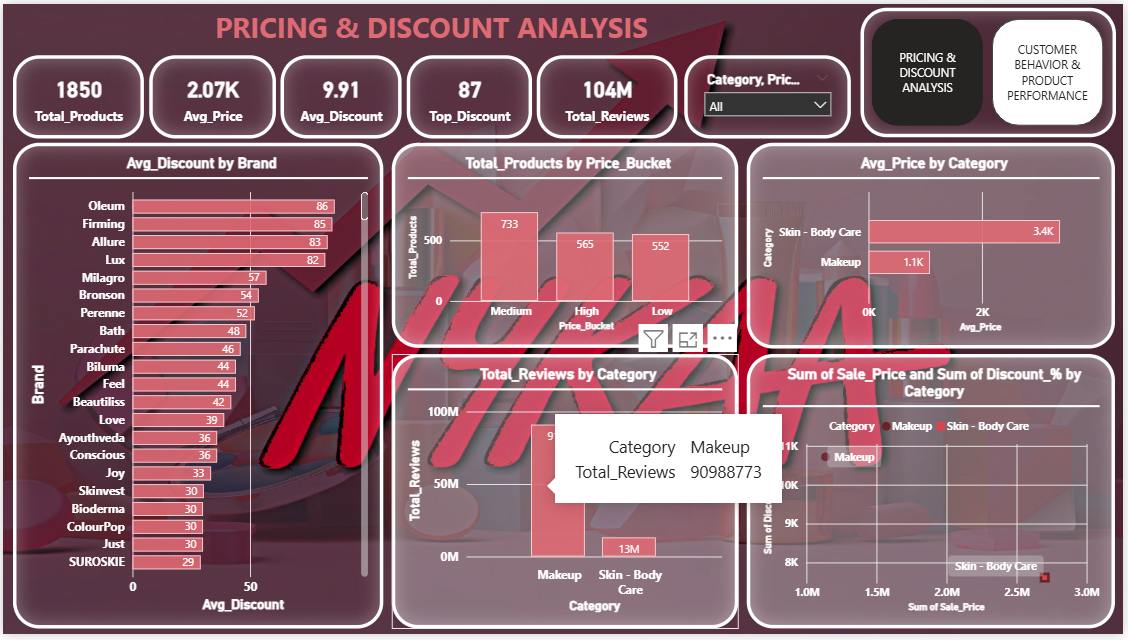

The page's visual inventory and layout, read from the dashboard file:
{"tool":"powerbi","page":{"name":"PRICING & DISCOUNT ANALYSIS","canvas":[1280,720],"ordinal":0},"visuals":[{"type":"card","fields":{"Values":["Nykaa_Dataset.Total_Products"]},"box":[12.1,57.9,149.6,95.3],"z":0},{"type":"card","fields":{"Values":["Nykaa_Dataset.Avg_Price"]},"box":[167.7,57.9,144.8,95.3],"z":1000},{"type":"card","fields":{"Values":["Nykaa_Dataset.Total_Reviews"]},"box":[610.5,57.9,160.5,95.3],"z":2000},{"type":"card","fields":{"Values":["Nykaa_Dataset.Avg_Discount"]},"box":[317.3,57.9,138.7,95.3],"z":3000},{"type":"card","fields":{"Values":["Nykaa_Dataset.Top_Discount"]},"box":[460.9,57.9,143.6,95.3],"z":4000},{"type":"clusteredBarChart","fields":{"Category":["Nykaa_Dataset.Category"],"Y":["Nykaa_Dataset.Avg_Price"]},"box":[850.5,159.3,421,235.3],"z":5000},{"type":"columnChart","fields":{"Category":["Nykaa_Dataset.Price_Bucket"],"Y":["Nykaa_Dataset.Total_Products"]},"box":[444,159.3,395.7,234],"z":6000},{"type":"barChart","fields":{"Category":["Nykaa_Dataset.Brand"],"Y":["Nykaa_Dataset.Avg_Discount"]},"box":[12.1,159.3,423.5,555],"z":7000},{"type":"scatterChart","fields":{"Series":["Nykaa_Dataset.Category"],"X":["Sum(Nykaa_Dataset.Sale_Price)"],"Y":["Sum(Nykaa_Dataset.Discount_%)"]},"box":[850.5,400.5,421,313.7],"z":8000},{"type":"clusteredColumnChart","fields":{"Category":["Nykaa_Dataset.Category"],"Y":["Nykaa_Dataset.Total_Reviews"]},"box":[444,400.5,395.7,313.7],"z":9000},{"type":"slicer","fields":{"Values":["Nykaa_Dataset.Category","Nykaa_Dataset.Price_Bucket","Nykaa_Dataset.Brand"]},"box":[778.2,57.9,190.6,95.3],"z":10000},{"type":"pageNavigator","box":[979.6,4.8,292,148.4],"z":11000},{"type":"textbox","box":[12.1,0,956.7,57.9],"z":11001}]}

Visuals, with their boxes in screenshot pixels (x1, y1, x2, y2), scaled from the page's 1280x720 canvas onto the 1128x640 screenshot:
card - Nykaa_Dataset.Total_Products: <region>11, 51, 142, 136</region>
card - Nykaa_Dataset.Avg_Price: <region>148, 51, 275, 136</region>
card - Nykaa_Dataset.Total_Reviews: <region>538, 51, 679, 136</region>
card - Nykaa_Dataset.Avg_Discount: <region>280, 51, 402, 136</region>
card - Nykaa_Dataset.Top_Discount: <region>406, 51, 533, 136</region>
clusteredBarChart - Nykaa_Dataset.Category x Nykaa_Dataset.Avg_Price: <region>750, 142, 1121, 351</region>
columnChart - Nykaa_Dataset.Price_Bucket x Nykaa_Dataset.Total_Products: <region>391, 142, 740, 350</region>
barChart - Nykaa_Dataset.Brand x Nykaa_Dataset.Avg_Discount: <region>11, 142, 384, 635</region>
scatterChart - Nykaa_Dataset.Category x Sum(Nykaa_Dataset.Sale_Price): <region>750, 356, 1121, 635</region>
clusteredColumnChart - Nykaa_Dataset.Category x Nykaa_Dataset.Total_Reviews: <region>391, 356, 740, 635</region>
slicer - Nykaa_Dataset.Category x Nykaa_Dataset.Price_Bucket: <region>686, 51, 854, 136</region>
pageNavigator: <region>863, 4, 1121, 136</region>
textbox: <region>11, 0, 854, 51</region>
